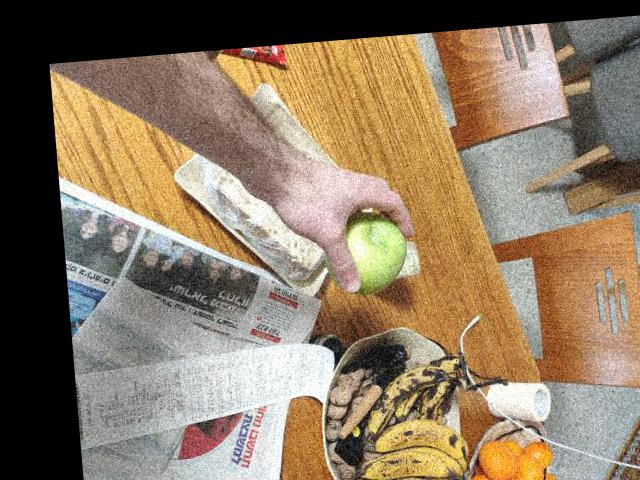apple: (331, 191, 414, 291)
